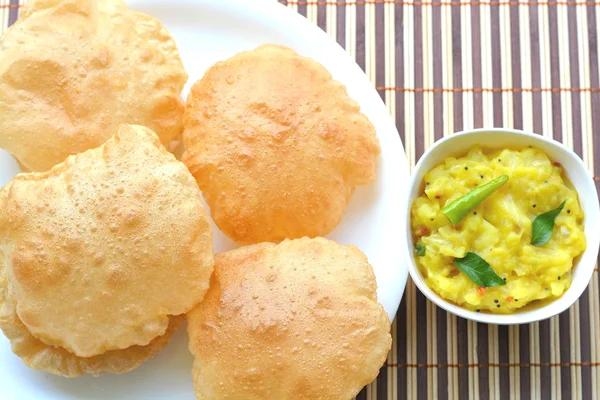puri: (0, 1, 399, 400)
